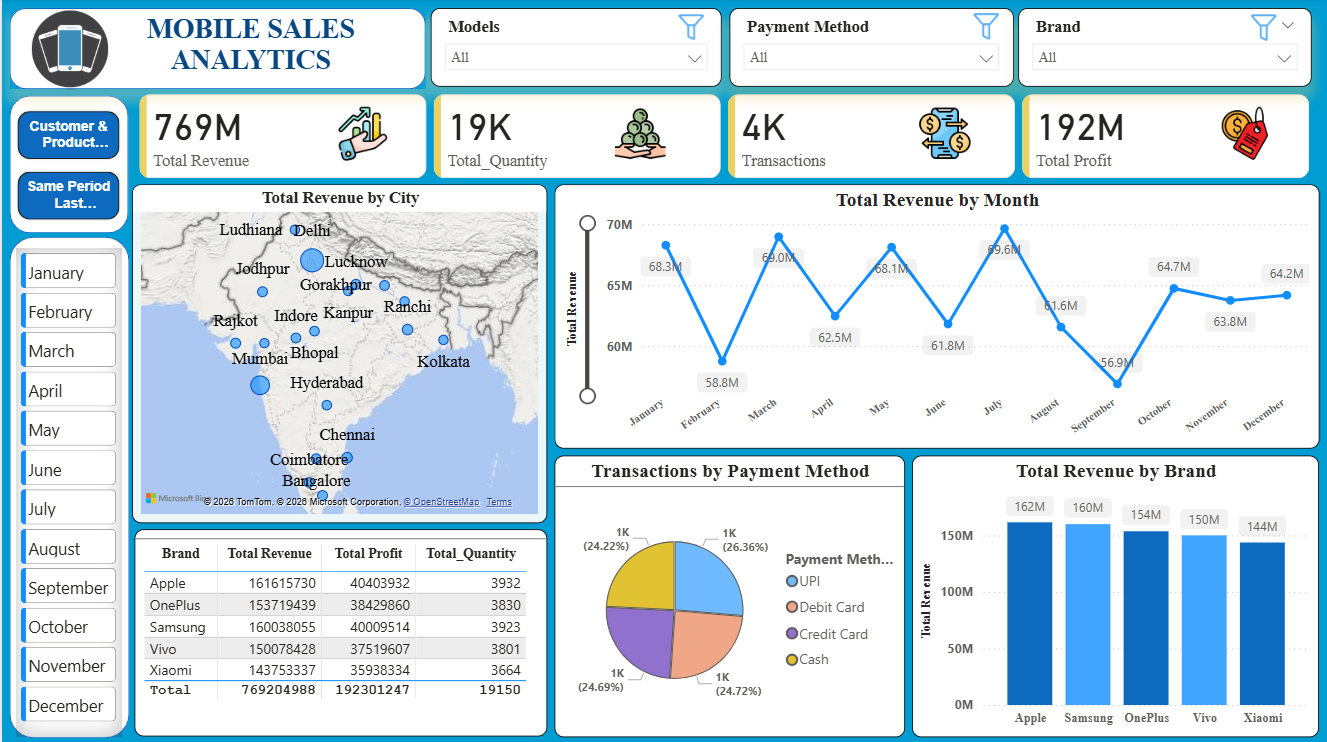

What the dashboard file says about the page in this screenshot:
{"tool":"powerbi","page":{"name":"Mobile Sales Analytics","canvas":[1280,720],"ordinal":0},"visuals":[{"type":"image","box":[7.2,12.1,118.2,82],"z":0},{"type":"shape","box":[7.2,94.1,115,133],"z":1000},{"type":"shape","box":[7.2,230.4,115.8,484],"z":2000},{"type":"advancedSlicerVisual","fields":{"Values":["Custom_Calender.Date.Variation.Date Hierarchy.Month"]},"box":[13.3,241.3,102.5,471.7],"z":3000},{"type":"cardVisual","fields":{"Data":["Mobile Sales.Total Revenue","Mobile Sales.Total_Quantity","Mobile Sales.Transactions","Mobile Sales.Total Profit"]},"box":[115.8,76,1164.2,115],"z":4000},{"type":"image","box":[265,105,165,52],"z":5000},{"type":"image","box":[827.5,105,165,51],"z":6000},{"type":"image","box":[533.8,105,165,52],"z":7000},{"type":"image","box":[1120,105,160,51],"z":8000},{"type":"slicer","fields":{"Values":["Mobile Sales.Model"]},"box":[413.8,9.7,281,76],"z":9000},{"type":"slicer","fields":{"Values":["Mobile Sales.Payment Method"]},"box":[702.1,9.7,274,76],"z":10000},{"type":"slicer","fields":{"Values":["Mobile Sales.Brand"]},"box":[980.8,9.7,283,76],"z":11000},{"type":"image","box":[603.2,15.7,124,25],"z":12000},{"type":"image","box":[887.9,14.5,124.3,25.3],"z":13000},{"type":"image","box":[1155.8,15.7,124.3,25.3],"z":14000},{"type":"shape","box":[7.2,9.7,401.7,78.4],"z":15000},{"type":"textbox","box":[0,9.7,480.2,74.8],"z":16000},{"type":"map","title":"Total Revenue by City","fields":{"Category":["Mobile Sales.City"],"Size":["Mobile Sales.Total Revenue"]},"box":[125.9,180.2,401,327.2],"z":17000},{"type":"lineChart","fields":{"Category":["Custom_Calender.Date.Variation.Date Hierarchy.Month"],"Y":["Mobile Sales.Total Revenue"]},"box":[533.3,180.2,738,255.6],"z":18000},{"type":"image","box":[7.2,12.1,117,79.6],"z":20000},{"type":"clusteredColumnChart","fields":{"Y":["Mobile Sales.Total Revenue"],"Category":["Mobile Sales.Brand"]},"box":[877.8,442,393,272],"z":21000},{"type":"pieChart","fields":{"Category":["Mobile Sales.Payment Method"],"Y":["Mobile Sales.Transactions"]},"box":[533.3,442,338.3,272],"z":22000},{"type":"tableEx","fields":{"Values":["Mobile Sales.Brand","Mobile Sales.Total Revenue","Mobile Sales.Total Profit","Mobile Sales.Total_Quantity"]},"box":[128.4,512.3,398,200],"z":23000},{"type":"pageNavigator","box":[13.3,107.4,102.5,109.8],"z":24000}]}

Visuals, with their boxes in screenshot pixels (x1, y1, x2, y2), scaled from the page's 1280x720 canvas onto the 1327x742 screenshot:
image: 7:12:130:97
shape: 7:97:127:234
shape: 7:237:128:736
advancedSlicerVisual - Custom_Calender.Date.Variation.Date Hierarchy.Month: 14:249:120:735
cardVisual - Mobile Sales.Total Revenue x Mobile Sales.Total_Quantity: 120:78:1326:197
image: 275:108:446:162
image: 858:108:1029:161
image: 553:108:724:162
image: 1161:108:1326:161
slicer - Mobile Sales.Model: 429:10:720:88
slicer - Mobile Sales.Payment Method: 728:10:1012:88
slicer - Mobile Sales.Brand: 1017:10:1310:88
image: 625:16:754:42
image: 921:15:1049:41
image: 1198:16:1326:42
shape: 7:10:424:91
textbox: 0:10:498:87
"Total Revenue by City" map: 131:186:546:523
lineChart - Custom_Calender.Date.Variation.Date Hierarchy.Month x Mobile Sales.Total Revenue: 553:186:1318:449
image: 7:12:129:95
clusteredColumnChart - Mobile Sales.Total Revenue x Mobile Sales.Brand: 910:456:1317:736
pieChart - Mobile Sales.Payment Method x Mobile Sales.Transactions: 553:456:904:736
tableEx - Mobile Sales.Brand x Mobile Sales.Total Revenue: 133:528:546:734
pageNavigator: 14:111:120:224
